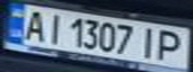0: (97, 19, 118, 53)
1: (63, 15, 84, 48)
3: (78, 17, 100, 51)
7: (115, 21, 139, 56)
A: (18, 7, 48, 42)
I: (136, 25, 160, 60), (42, 11, 66, 44)
P: (151, 28, 187, 62)
